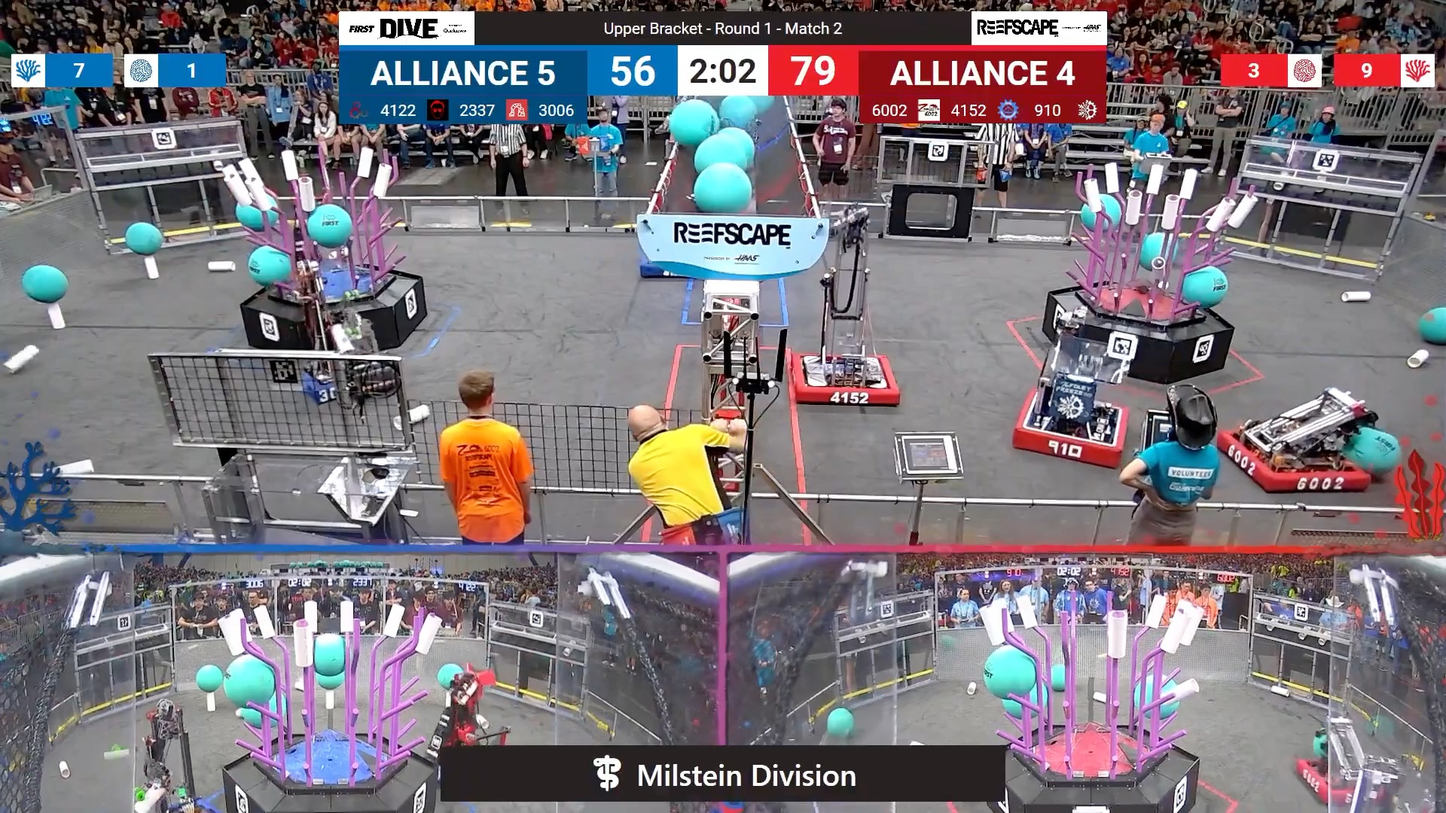bumpers: (1212, 428, 1377, 498), (1007, 385, 1130, 470), (784, 349, 902, 413), (1287, 752, 1407, 807), (291, 357, 400, 404), (631, 258, 682, 280)
